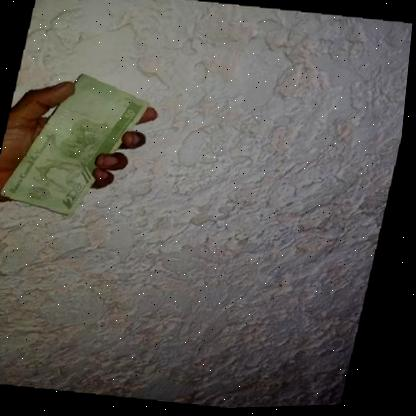fifty-back-vef: (0, 66, 158, 223)
